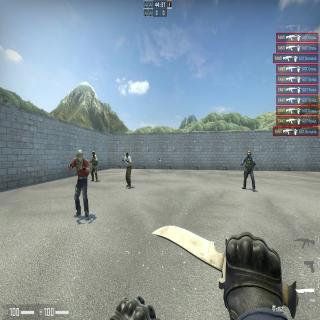CT-Body: (243, 150, 254, 191), (91, 151, 98, 181)
CT-Head: (247, 151, 251, 159), (92, 151, 95, 157)
T-Body: (72, 148, 88, 218), (125, 152, 132, 188)
T-Head: (76, 149, 82, 162), (125, 152, 128, 159)
